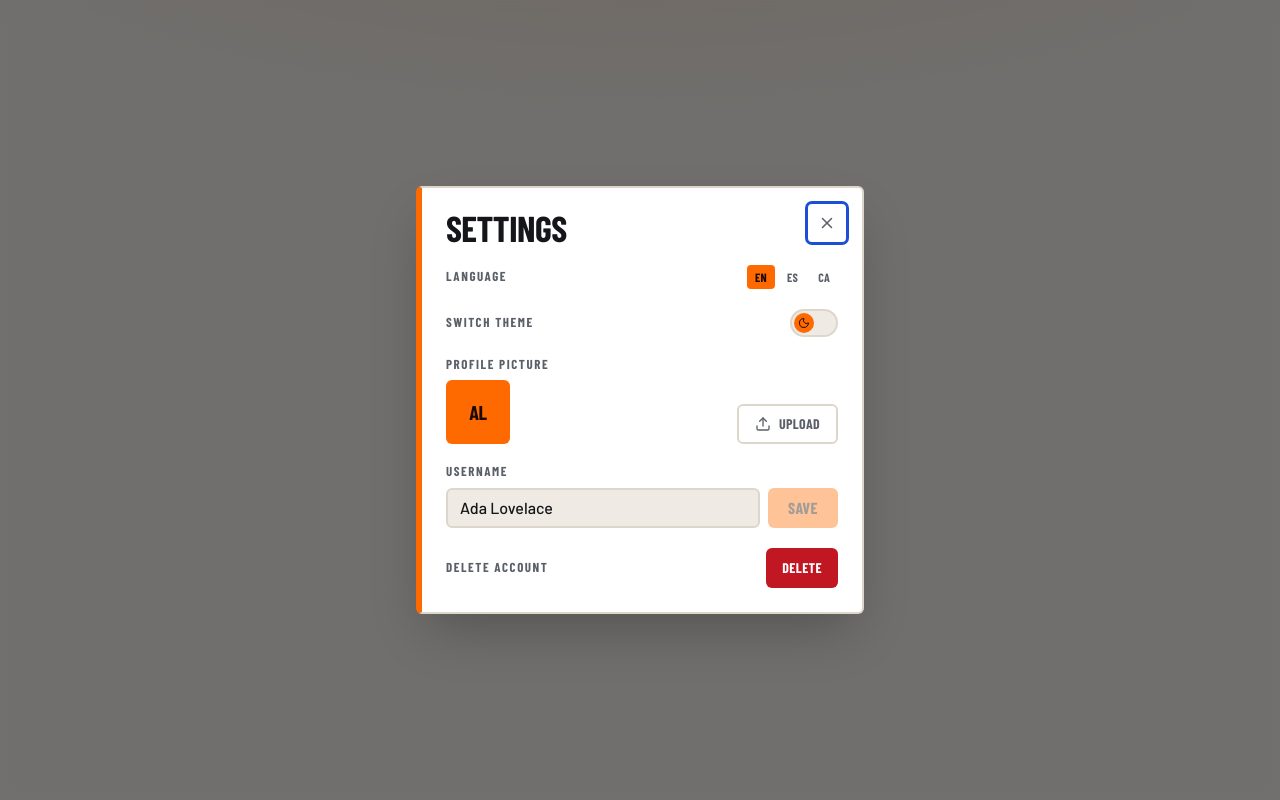
Test: SettingsModal username › saves the typed name
The image size is (1280, 800).
Replace the text in the field named "Username" with "Grace Hopper" at point(603, 508), box [446, 488, 760, 528]
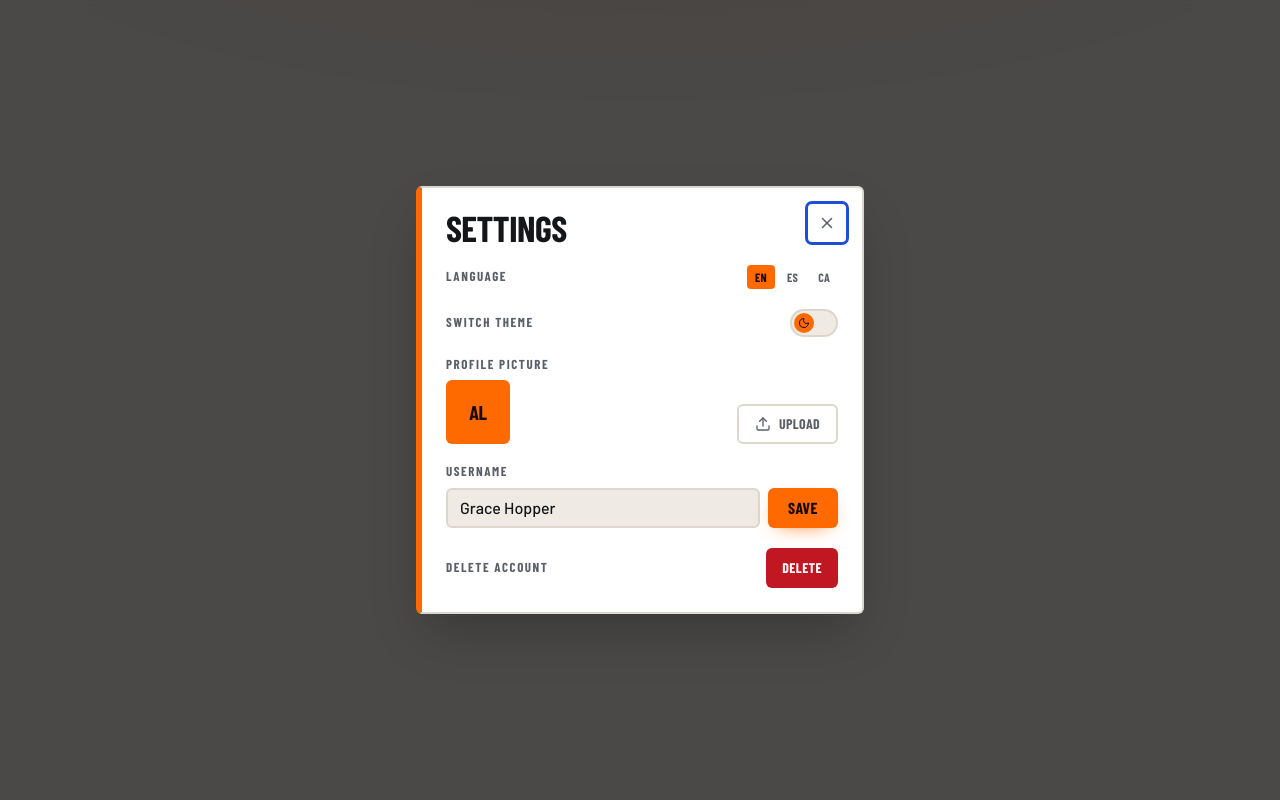
Click the button "Save" at point(803, 508), box [768, 488, 838, 528]
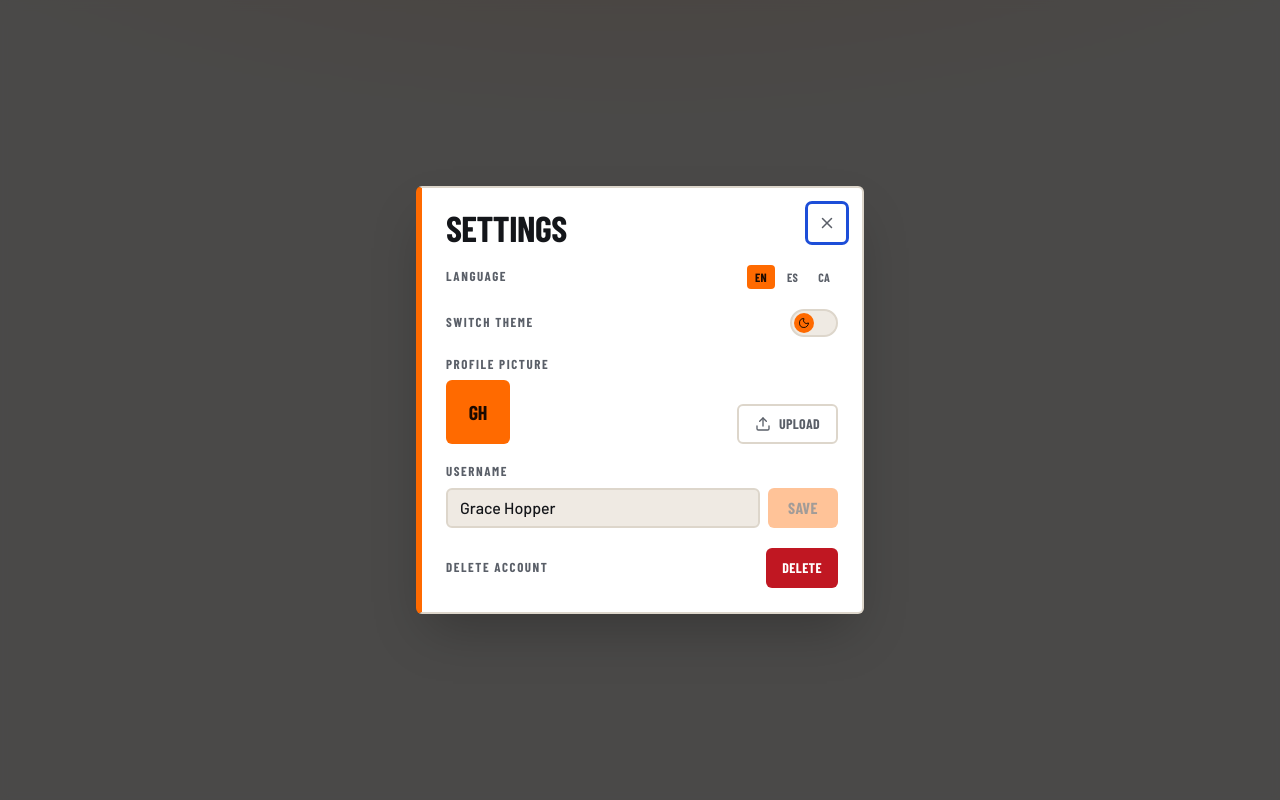
Now the button "Save" is disabled, box [768, 488, 838, 528]
